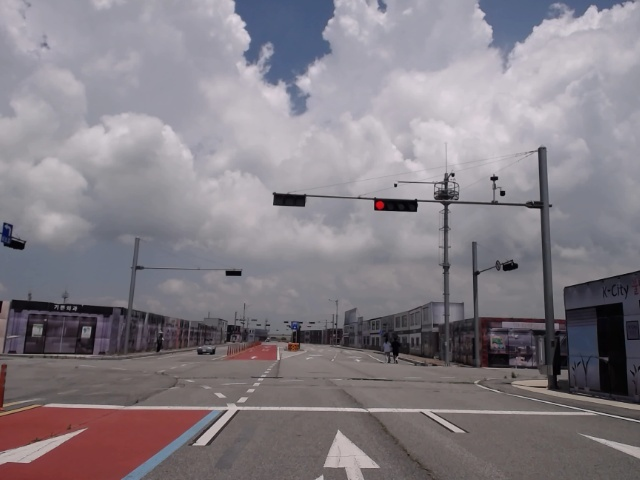red_4: (374, 199, 417, 212)
